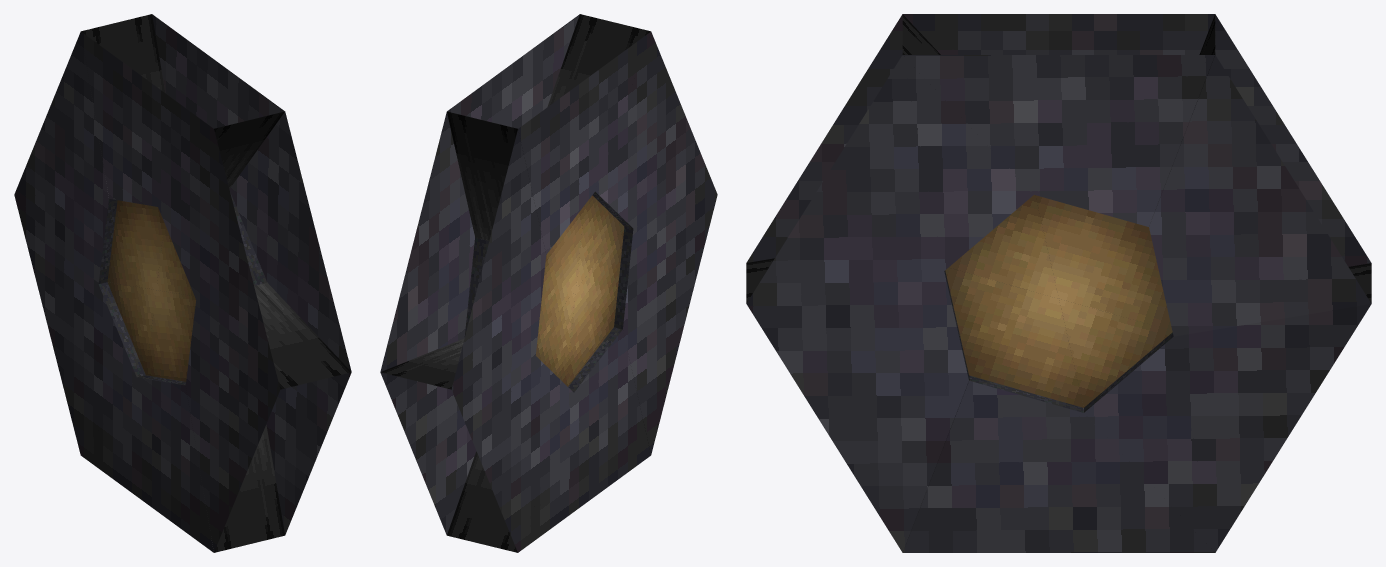
The model's file is primary_223.glb.
3 views of the same model, side by side, from view 1: azimuth 30°, elevation 25°; view 2: azimuth 150°, elevation 25°; view 3: azimuth 270°, elevation 25° (orthographic). The views are drawn at different scales.
Parts seen in each view (by area): view 1: Object; view 2: Object; view 3: Object.
Part boxes in pixels (<box>): Object: <box>14,14,351,552</box>; Object: <box>380,14,717,552</box>; Object: <box>746,14,1371,552</box>.
Size of the model in its own units: 0.3778 by 2.15 by 2.45.
Materials: 28 (28 with a texture image).
